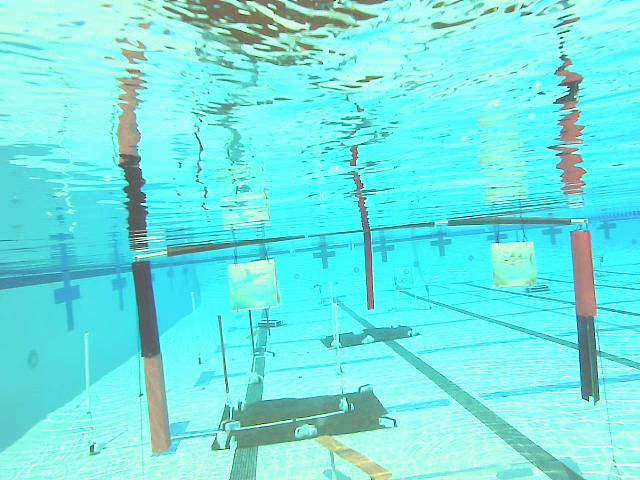black_poster: (215, 314, 232, 395)
divider: (360, 234, 376, 309)
left_gate_poster: (130, 265, 180, 458)
right_gate_poster: (573, 234, 604, 403)
shark: (228, 264, 279, 304)
swordfish: (491, 244, 538, 290)
white_poster: (80, 334, 98, 454), (191, 293, 204, 364)
